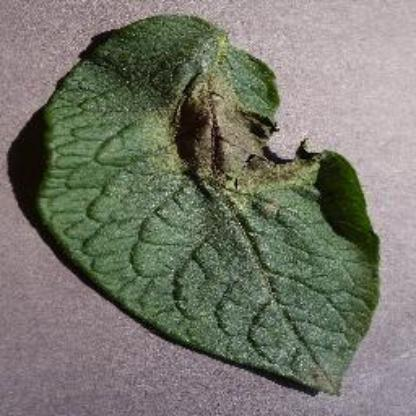Late-Blight: (28, 13, 382, 398)
